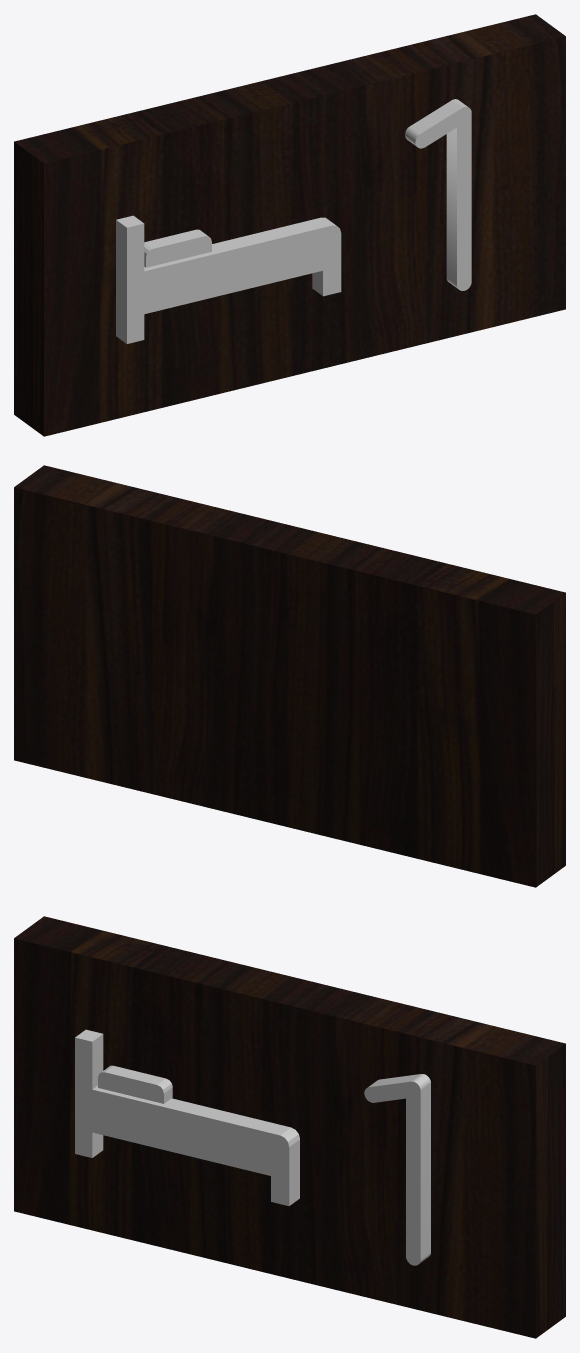
File: Bed 1.fbx
3 views of the same model, one above another, from view 1: azimuth 30°, elevation 25°; view 2: azimuth 150°, elevation 25°; view 3: azimuth 330°, elevation 25° (orthographic).
Parts seen in each view (by area): view 1: Base, Cube, Text; view 2: Base; view 3: Base, Cube, Text.
Boxes of the visible parts, bbox=[...] form: Base: bbox=[14, 14, 565, 436]; Cube: bbox=[116, 215, 341, 343]; Text: bbox=[405, 99, 471, 290]; Base: bbox=[14, 465, 565, 887]; Base: bbox=[14, 916, 565, 1338]; Cube: bbox=[75, 1029, 299, 1205]; Text: bbox=[364, 1074, 430, 1265].
Size of the model in its own units: 200 by 100 by 27.26.
